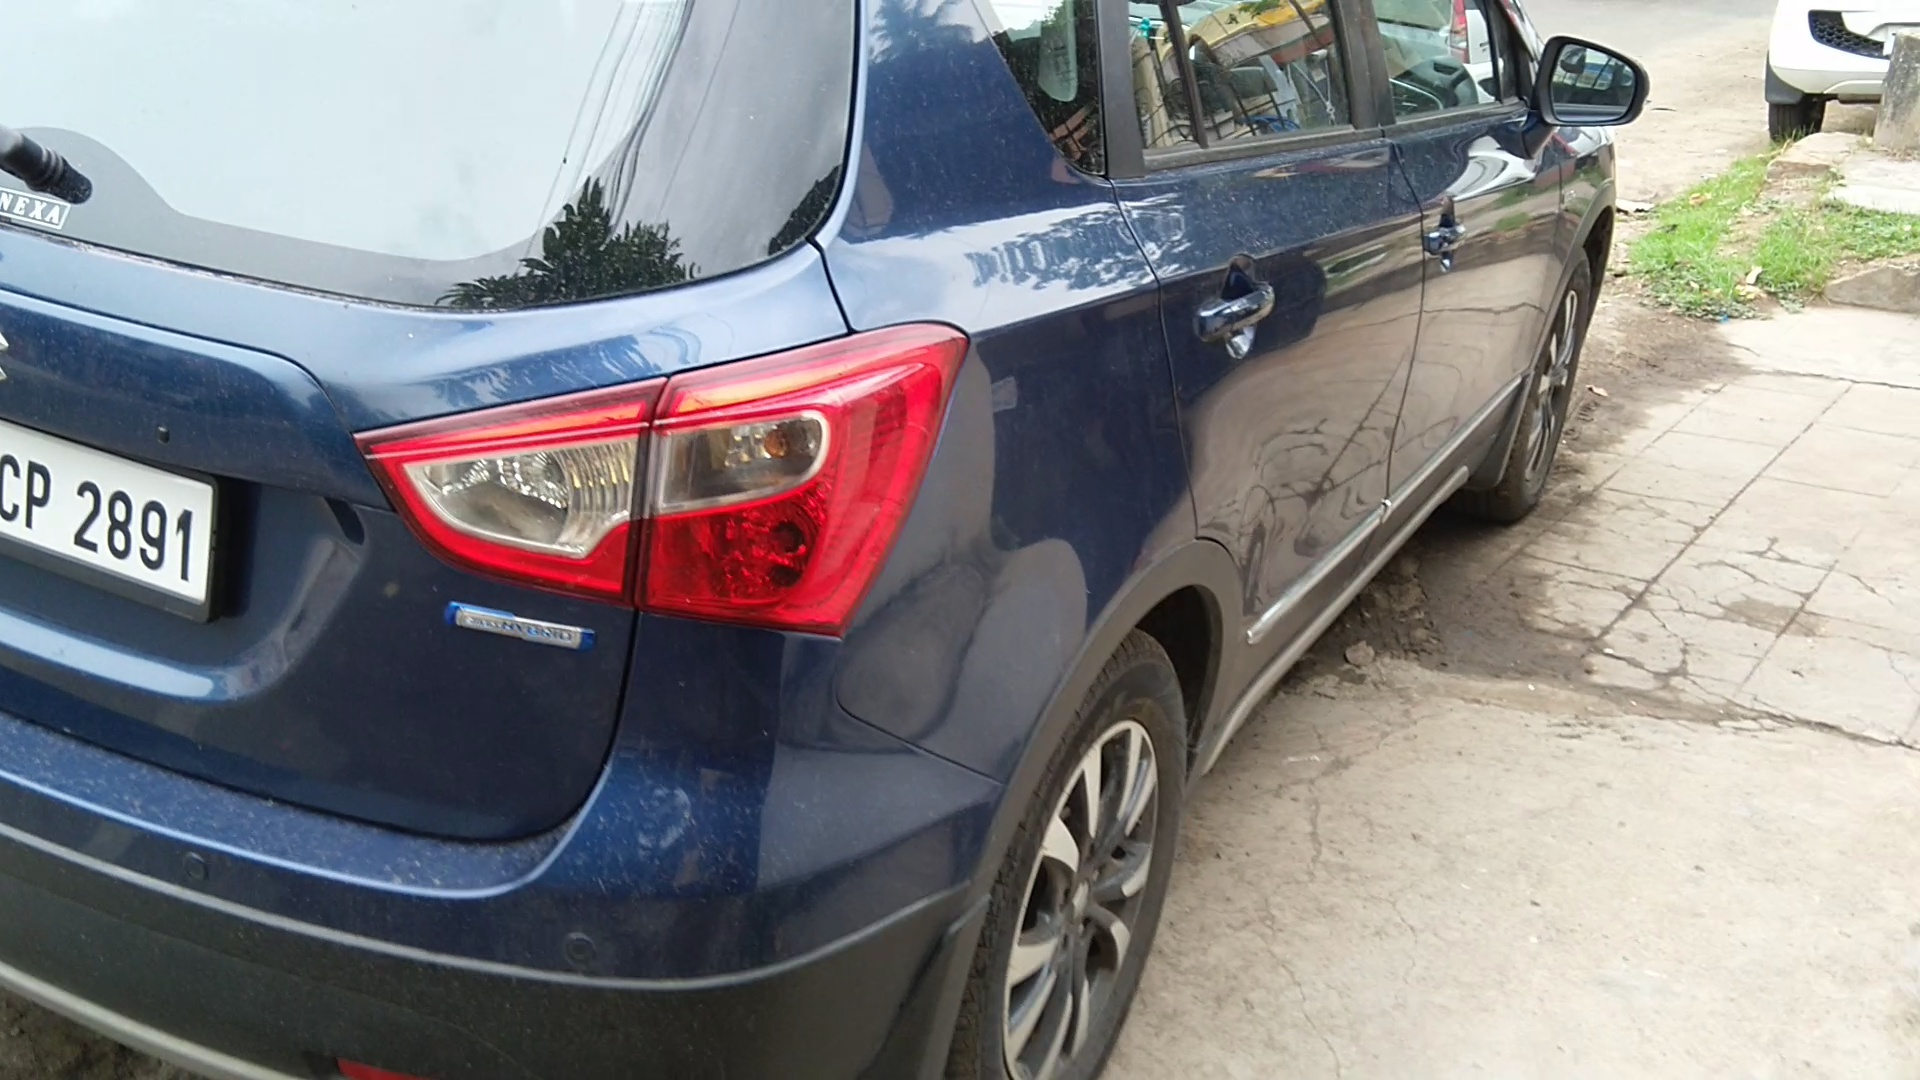alloy_wheel: (967, 647, 1201, 1080), (1495, 247, 1601, 502)
shvs: (431, 582, 604, 676)
